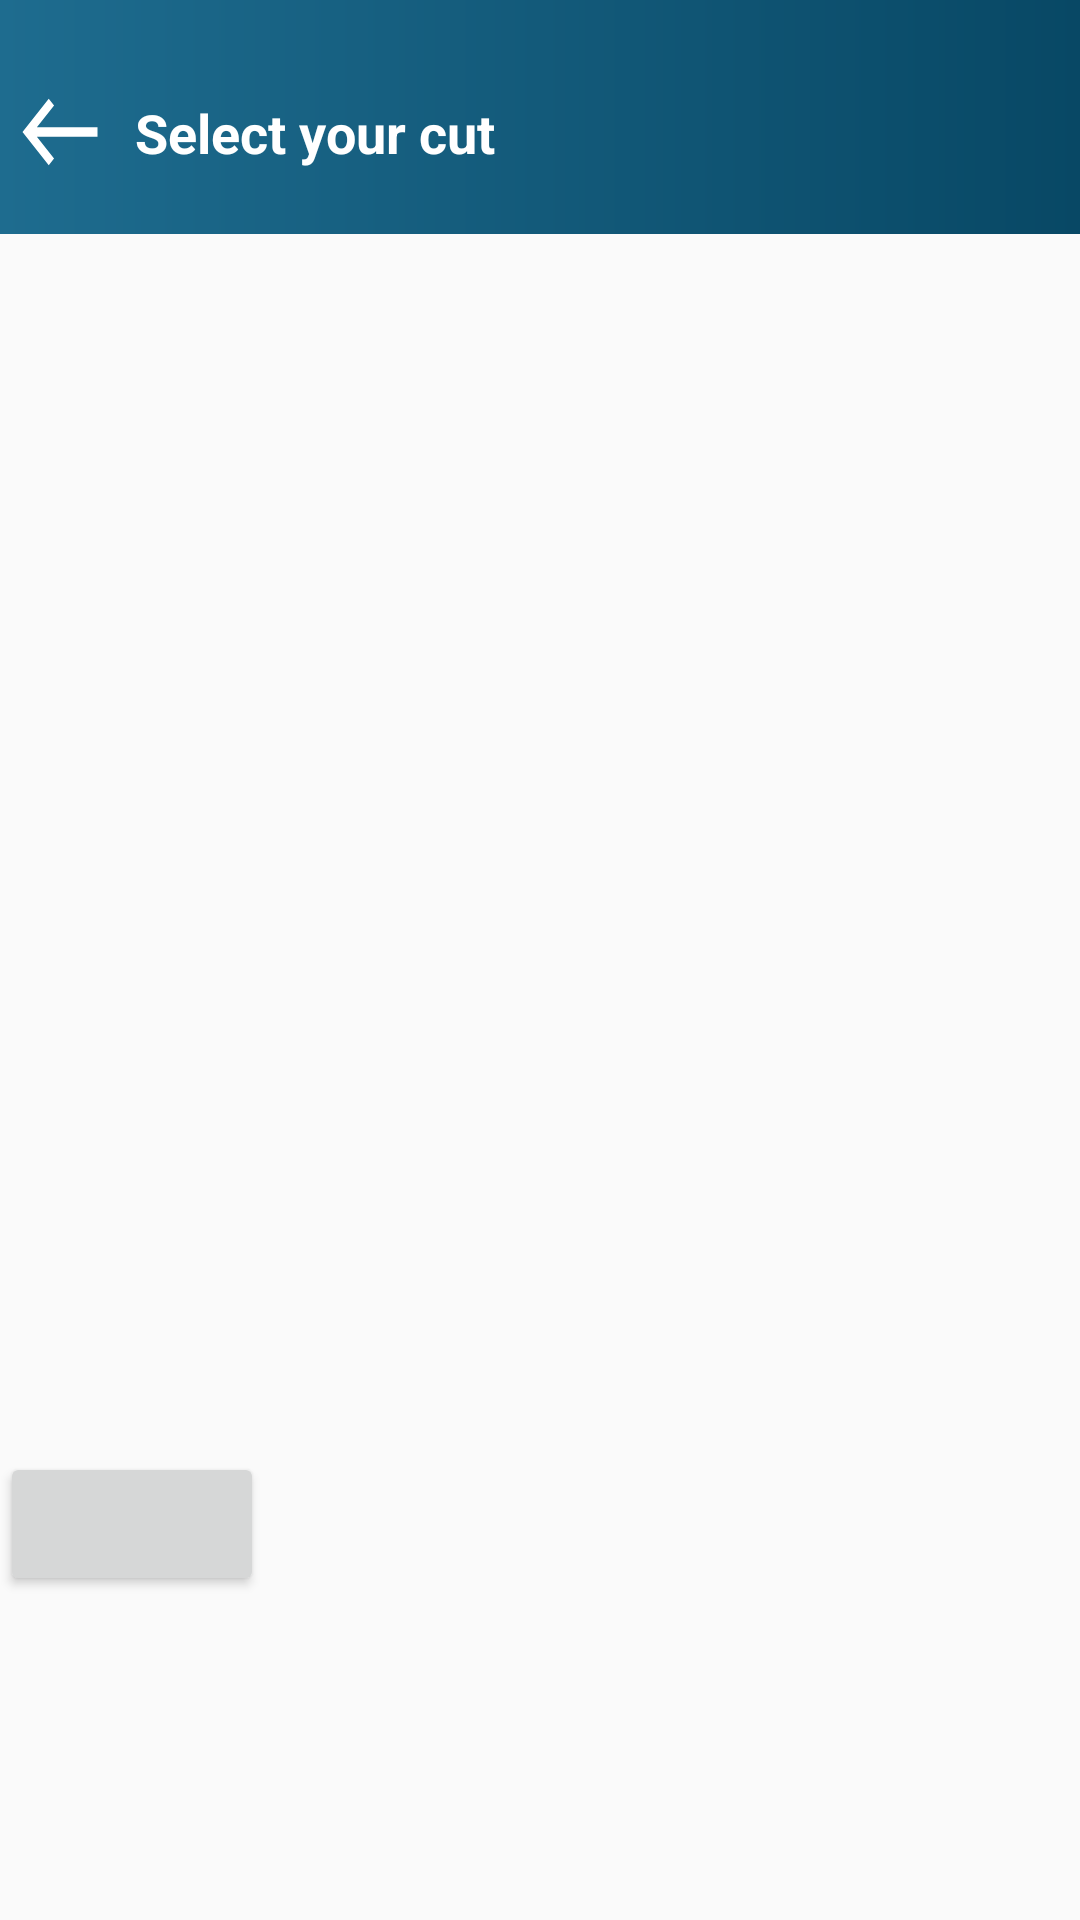

Where to tap for icons on this 1080×1920 app screen, as (x,y):
west: (60,132)
